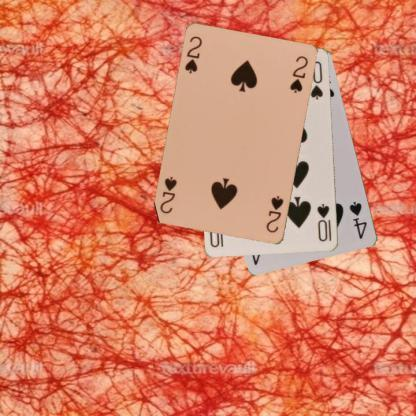10s: (314, 201, 332, 243)
2s: (263, 193, 285, 235), (182, 34, 204, 76)
4s: (346, 198, 368, 240)
